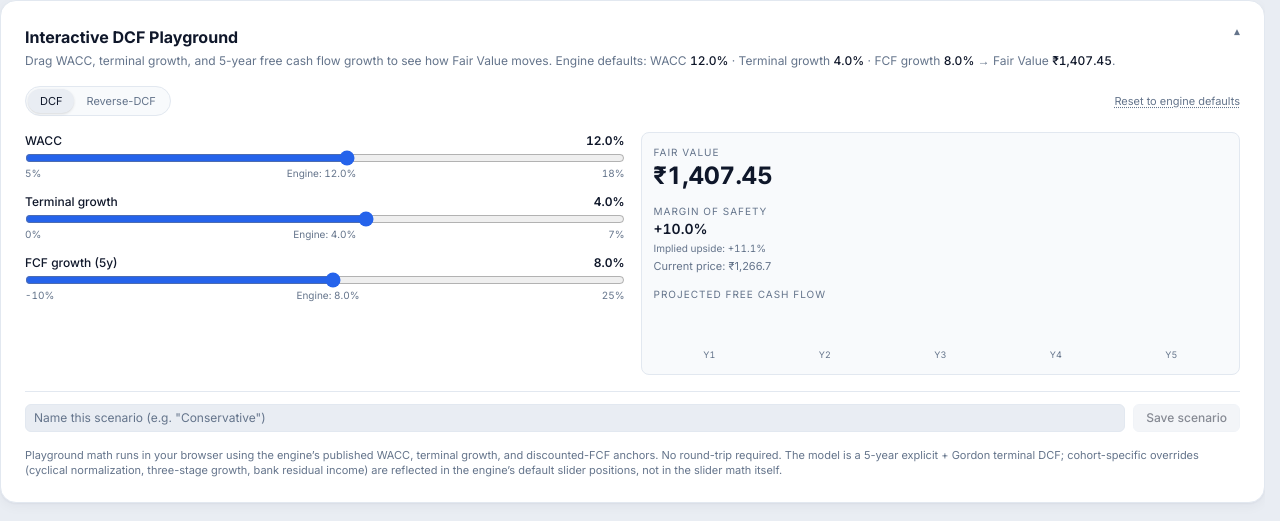
Scenario: InteractiveDcfPlayground — slider defaults and interactivity › recomputes FV when the WACC slider moves
The width and height of the screenshot is (1280, 521).
Set the slider with test id "slider-wacc" to "15" at point(482, 158), box [25, 154, 624, 162]
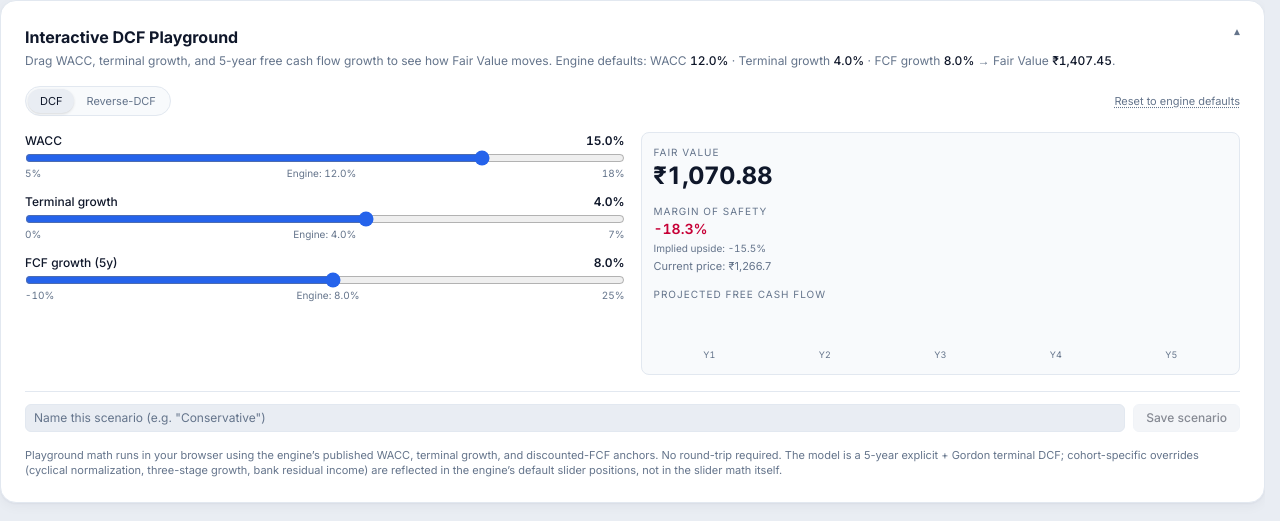
expect the text with test id "slider-wacc-value" shows "15.0": met, box [586, 133, 612, 148]
